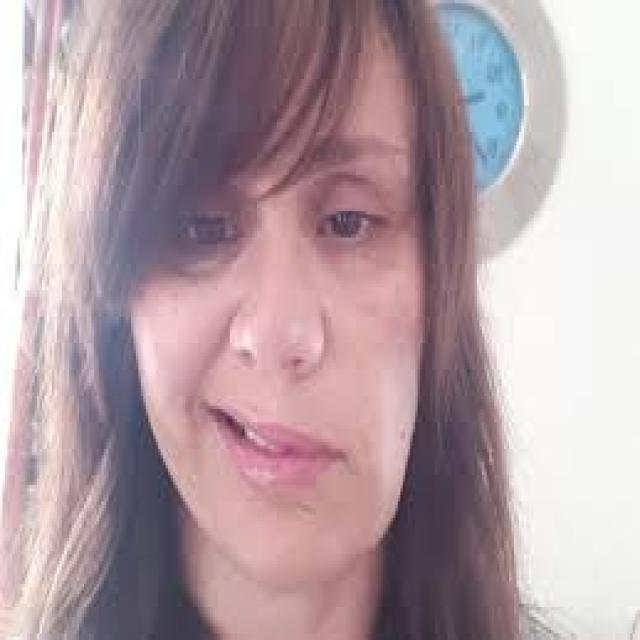stroke_face: (87, 4, 431, 586)
